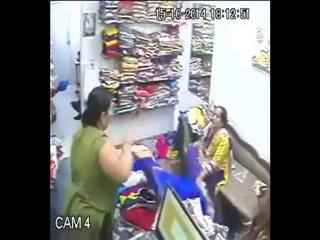Normal: (63, 86, 136, 240)
